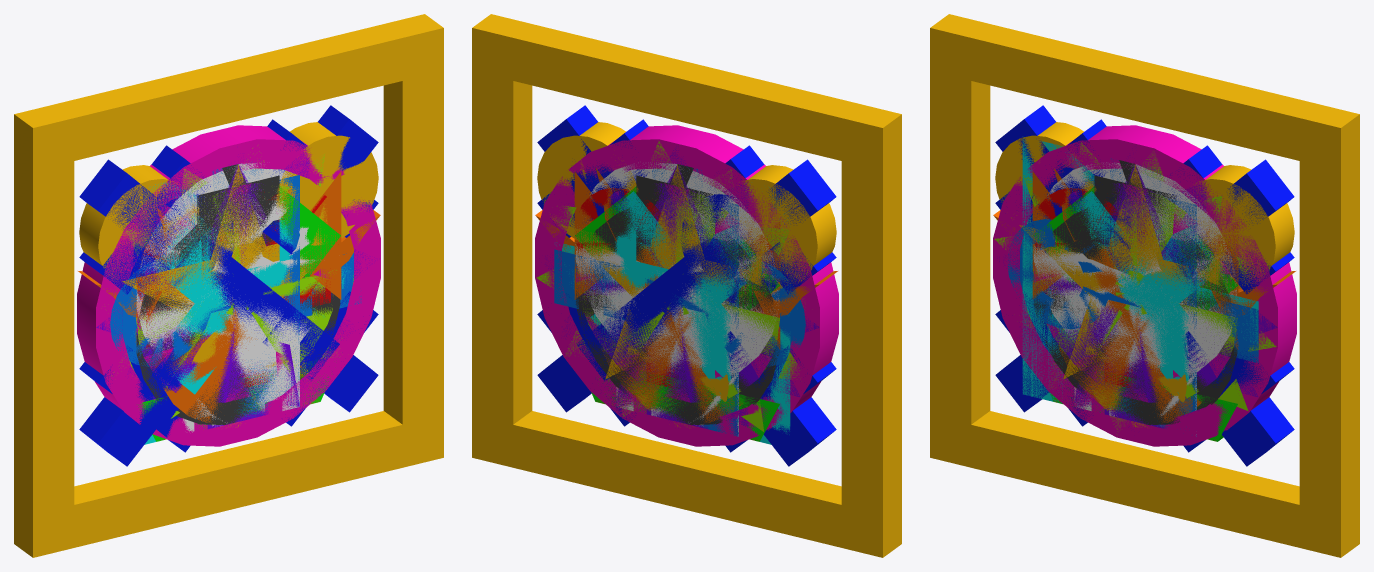
File: setB.fbx
The picture shows the model from 3 angles, left to right: view 1: azimuth 30°, elevation 25°; view 2: azimuth 150°, elevation 25°; view 3: azimuth 330°, elevation 25°; orthographic projection.
Parts seen in each view (by area): view 1: powerup_01, powerup_07, powerup_18, powerup_04, powerup_13, powerup_03, powerup_05, powerup_15, powerup_10, powerup_14, powerup_08, powerup_06 (+7 smaller); view 2: powerup_01, powerup_07, powerup_18, powerup_04, powerup_13, powerup_03, powerup_05, powerup_15, powerup_14, powerup_10, powerup_08, powerup_06 (+6 smaller); view 3: powerup_01, powerup_07, powerup_04, powerup_18, powerup_13, powerup_03, powerup_14, powerup_10, powerup_15, powerup_08, powerup_06, powerup_19 (+7 smaller).
Boxes of the visible parts, bbox=[...] form: powerup_01: bbox=[14, 14, 443, 557]; powerup_07: bbox=[77, 125, 380, 446]; powerup_18: bbox=[79, 105, 378, 466]; powerup_04: bbox=[136, 163, 315, 432]; powerup_13: bbox=[79, 122, 378, 427]; powerup_03: bbox=[136, 164, 340, 424]; powerup_05: bbox=[133, 194, 339, 380]; powerup_15: bbox=[78, 166, 380, 422]; powerup_10: bbox=[156, 213, 324, 394]; powerup_14: bbox=[96, 152, 375, 402]; powerup_08: bbox=[111, 148, 368, 418]; powerup_06: bbox=[110, 252, 361, 366]; powerup_01: bbox=[472, 14, 901, 557]; powerup_07: bbox=[535, 125, 838, 446]; powerup_18: bbox=[537, 105, 836, 466]; powerup_04: bbox=[575, 162, 779, 436]; powerup_13: bbox=[537, 122, 836, 428]; powerup_03: bbox=[575, 164, 779, 424]; powerup_05: bbox=[576, 194, 781, 381]; powerup_15: bbox=[535, 168, 837, 422]; powerup_14: bbox=[539, 146, 819, 426]; powerup_10: bbox=[590, 191, 752, 393]; powerup_08: bbox=[536, 141, 803, 431]; powerup_06: bbox=[554, 249, 805, 366]; powerup_01: bbox=[930, 14, 1359, 557]; powerup_07: bbox=[993, 125, 1296, 446]; powerup_04: bbox=[1033, 162, 1236, 436]; powerup_18: bbox=[995, 105, 1294, 466]; powerup_13: bbox=[995, 122, 1294, 427]; powerup_03: bbox=[1033, 160, 1237, 424]; powerup_14: bbox=[997, 148, 1277, 427]; powerup_10: bbox=[1048, 191, 1210, 393]; powerup_15: bbox=[993, 166, 1295, 422]; powerup_08: bbox=[994, 142, 1276, 431]; powerup_06: bbox=[1007, 219, 1258, 362]; powerup_19: bbox=[1022, 136, 1258, 403].
Bounding box in the file's own units: 1 × 1 × 0.08.
